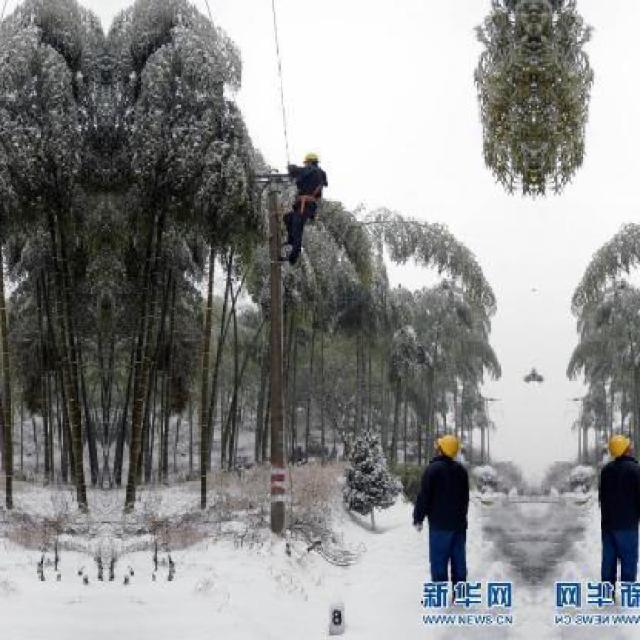helmet: (432, 425, 458, 460), (297, 146, 318, 165)
